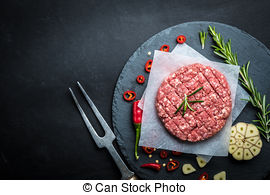ground_beef: (159, 63, 229, 141)
